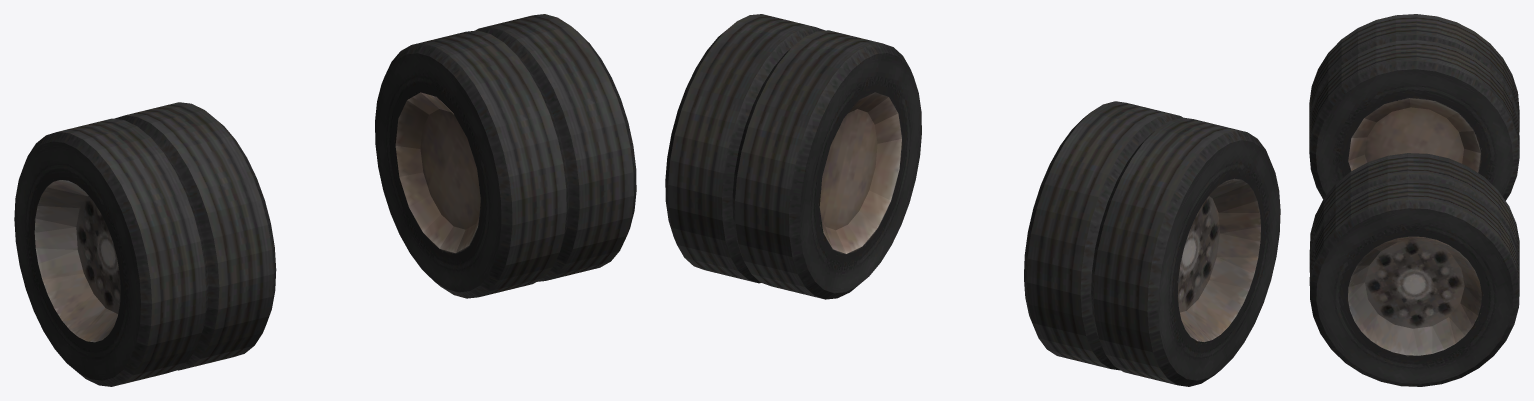
The model's file is BackWheels1.obj.
3 views of the same model, side by side, from view 1: azimuth 30°, elevation 25°; view 2: azimuth 150°, elevation 25°; view 3: azimuth 270°, elevation 25° (orthographic). The views are drawn at different scales.
Parts seen in each view (by area): view 1: DrawCall_0817, DrawCall_0819; view 2: DrawCall_0817, DrawCall_0819; view 3: DrawCall_0817, DrawCall_0819.
Part boxes in pixels (bbox=[...]): DrawCall_0817: bbox=[375, 14, 636, 298]; DrawCall_0819: bbox=[14, 102, 276, 386]; DrawCall_0817: bbox=[665, 14, 921, 299]; DrawCall_0819: bbox=[1024, 101, 1280, 386]; DrawCall_0817: bbox=[1309, 153, 1519, 386]; DrawCall_0819: bbox=[1309, 14, 1519, 200].
Size of the model in its own units: 2.55 by 1.16 by 1.18.
1 material, 1 textured.
